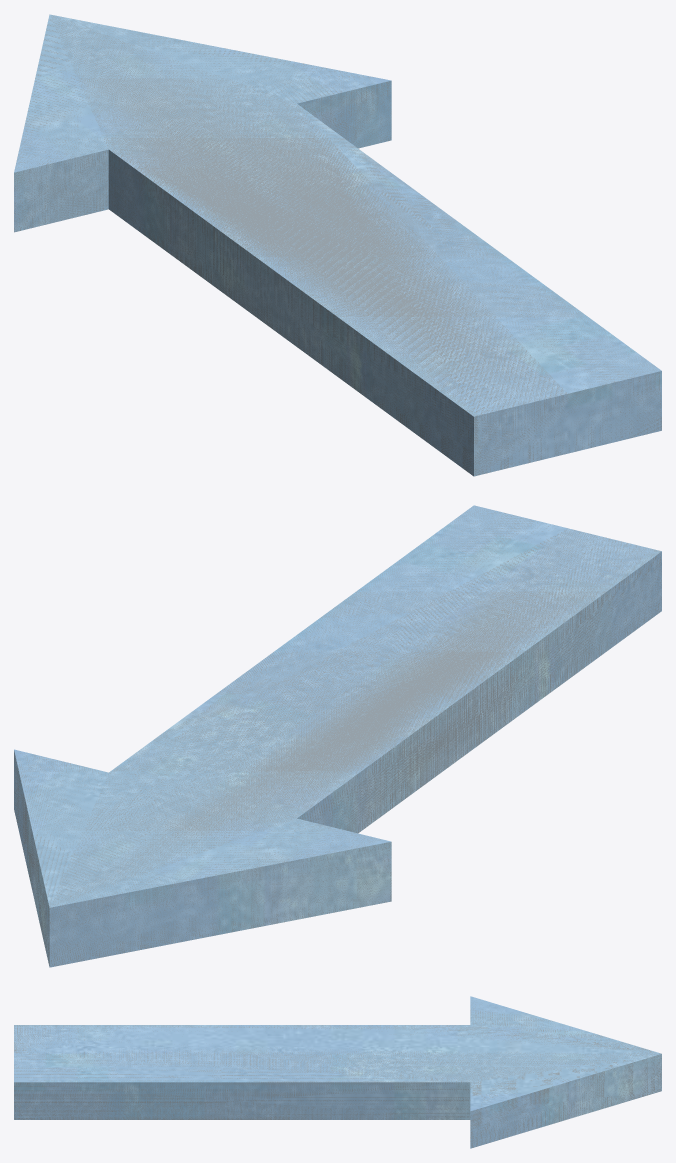
File: blue_arrow.obj
3 views of the same model, one above another, from view 1: azimuth 30°, elevation 25°; view 2: azimuth 150°, elevation 25°; view 3: azimuth 270°, elevation 25° (orthographic). The views are drawn at different scales.
Visible parts, largest first — view 1: Mesh1 Model; view 2: Mesh1 Model; view 3: Mesh1 Model.
Part boxes in pixels (x1=…): Mesh1 Model: x1=14, y1=14, x2=661, y2=476; Mesh1 Model: x1=14, y1=505, x2=661, y2=967; Mesh1 Model: x1=14, y1=996, x2=661, y2=1148.
Size of the model in its own units: 0.3145 by 0.0476 by 0.7477.
Materials: 2 (1 with a texture image).
